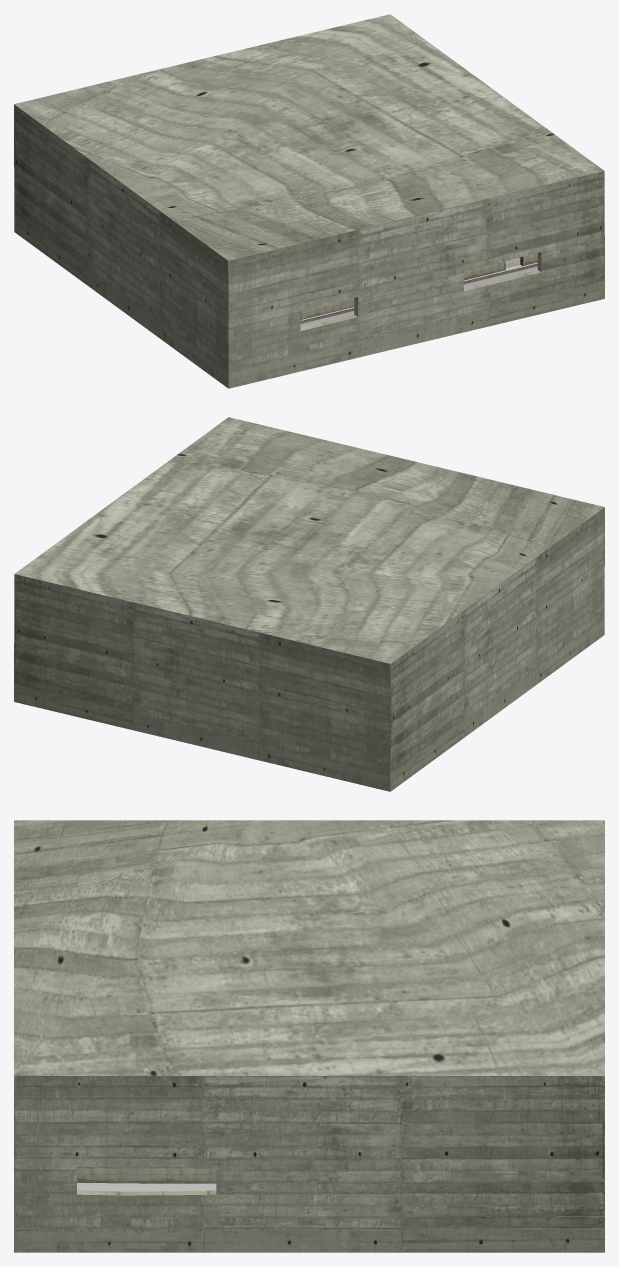
Rendered from Corridor_00_00.fbx.
3 views of the same model, one above another, from view 1: azimuth 30°, elevation 25°; view 2: azimuth 150°, elevation 25°; view 3: azimuth 270°, elevation 25° (orthographic). The views are drawn at different scales.
Parts seen in each view (by area): view 1: Corridor_00_00.001, Corridor_00_00.002, Corridor_00_00.008; view 2: Corridor_00_00.001; view 3: Corridor_00_00.001, Corridor_00_00.002, Corridor_00_00.008.
Boxes of the visible parts, x1,y1,x2,y2 form: Corridor_00_00.001: (14,14,604,388); Corridor_00_00.002: (301,253,537,319); Corridor_00_00.008: (300,262,537,327); Corridor_00_00.001: (14,417,604,791); Corridor_00_00.001: (14,820,604,1252); Corridor_00_00.002: (77,1166,216,1183); Corridor_00_00.008: (77,1183,216,1191).
Bounding box in the file's own units: 4019 × 1324 × 3959.
